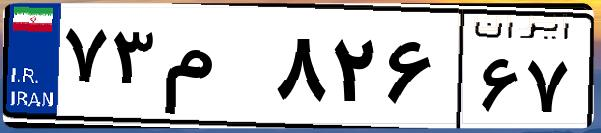2: (330, 28, 385, 110)
3: (110, 28, 158, 98)
6: (385, 28, 445, 110), (475, 38, 525, 113)
7: (57, 26, 110, 100), (525, 38, 570, 115)
8: (270, 28, 330, 110)
م: (158, 20, 270, 120)
